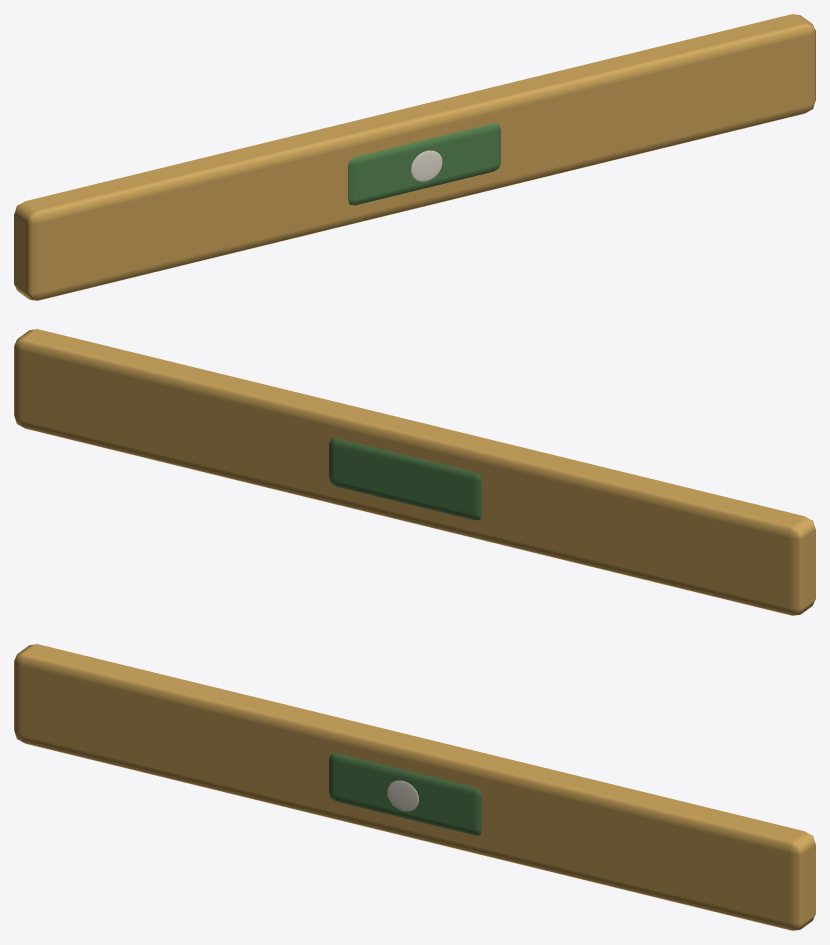
Rendered from wp-niveau-a-bulle.glb.
The picture shows the model from 3 angles, top to bottom: view 1: azimuth 30°, elevation 25°; view 2: azimuth 150°, elevation 25°; view 3: azimuth 330°, elevation 25°; orthographic projection.
Visible parts, largest first — view 1: wp-niveau-a-bulle; view 2: wp-niveau-a-bulle; view 3: wp-niveau-a-bulle.
Part boxes in pixels (x1=…): wp-niveau-a-bulle: x1=14, y1=14, x2=815, y2=300; wp-niveau-a-bulle: x1=14, y1=329, x2=815, y2=615; wp-niveau-a-bulle: x1=14, y1=644, x2=815, y2=930.
Size of the model in its own units: 0.5 by 0.055 by 0.025.
